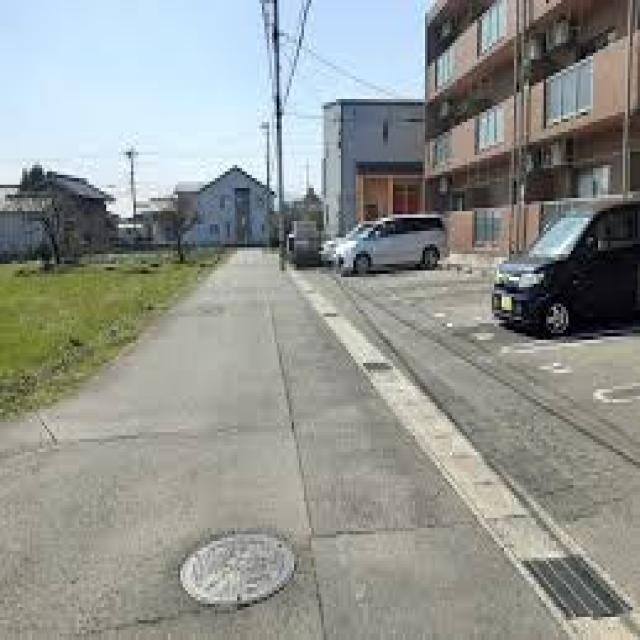manhole: (178, 532, 299, 606)
